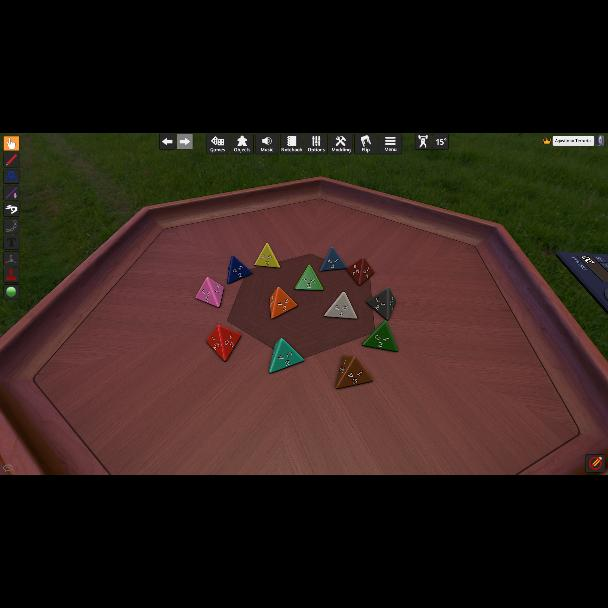d4: (206, 325, 240, 362), (269, 338, 303, 374), (335, 354, 371, 388), (361, 320, 396, 352), (366, 288, 396, 323), (268, 286, 296, 320), (194, 278, 224, 308), (325, 292, 356, 320), (348, 256, 374, 286), (295, 265, 321, 291), (227, 256, 251, 284), (320, 246, 344, 272), (255, 243, 279, 268)
